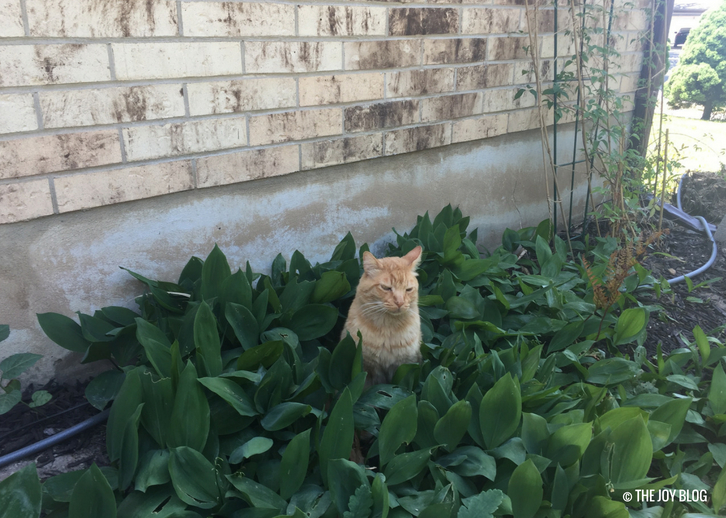cat: (341, 250, 427, 367)
